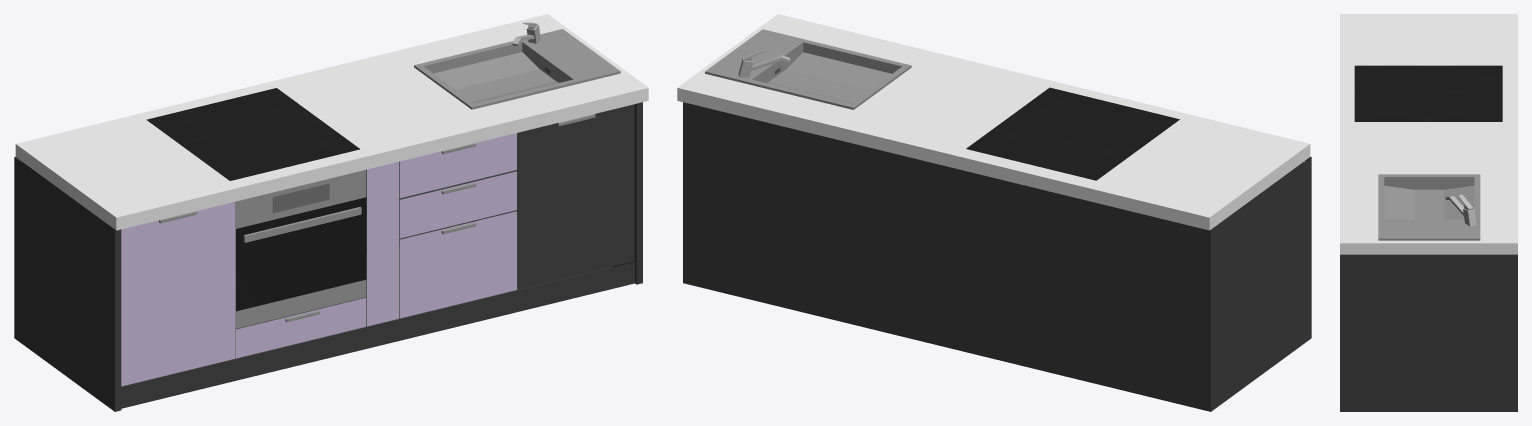
The model's file is kitchen_table.glb.
3 views of the same model, side by side, from view 1: azimuth 30°, elevation 25°; view 2: azimuth 150°, elevation 25°; view 3: azimuth 270°, elevation 25° (orthographic). The views are drawn at different scales.
Parts seen in each view (by area): view 1: kitchen_table_001; view 2: kitchen_table_001; view 3: kitchen_table_001.
Part boxes in pixels (box(x1,y1,x2,y2)): kitchen_table_001: box(14, 14, 648, 411); kitchen_table_001: box(677, 14, 1311, 411); kitchen_table_001: box(1340, 14, 1517, 411).
Size of the model in its own units: 2.61 by 1.04 by 0.8533.
1 material, 1 textured.
